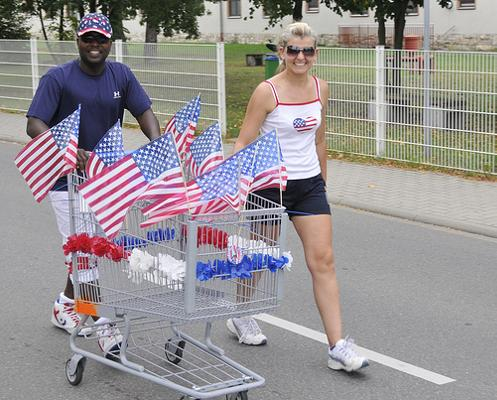person: (22, 11, 167, 335)
